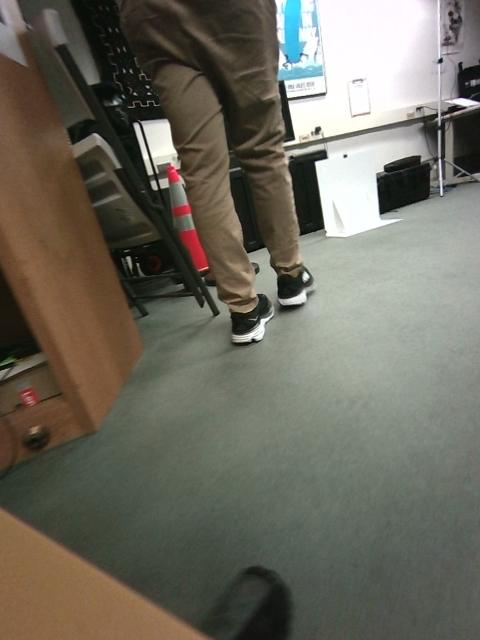block: (123, 376, 205, 450)
